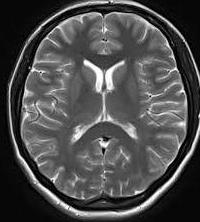Normal_Brain: (1, 1, 200, 222)
